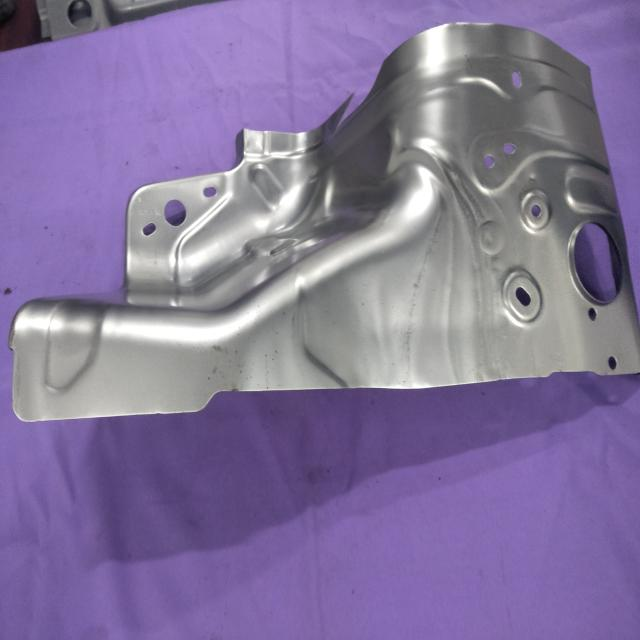Defect: (294, 66, 399, 135)
